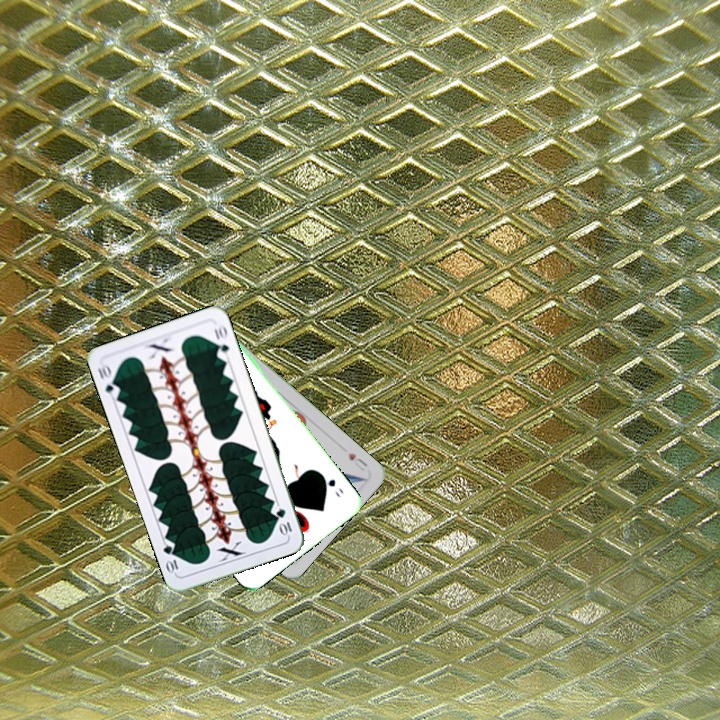G10: (94, 360, 122, 400), (272, 504, 295, 538)
GO: (317, 470, 346, 500)
HU: (343, 448, 370, 474)
